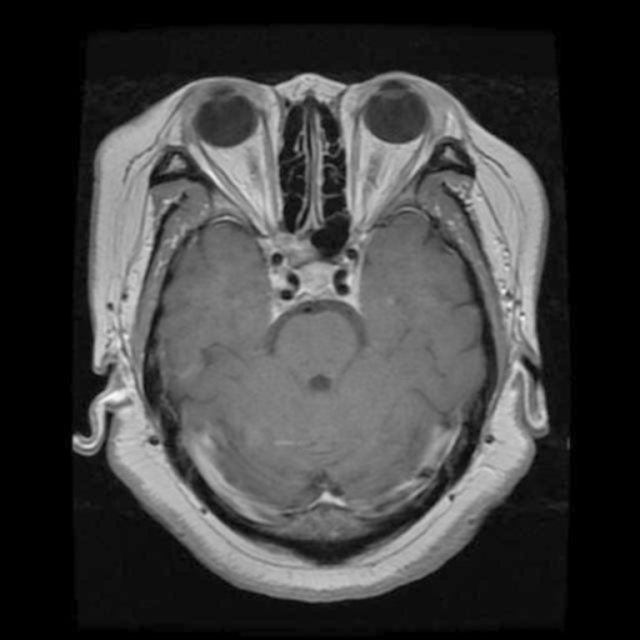no tumor: (294, 260, 350, 301)
